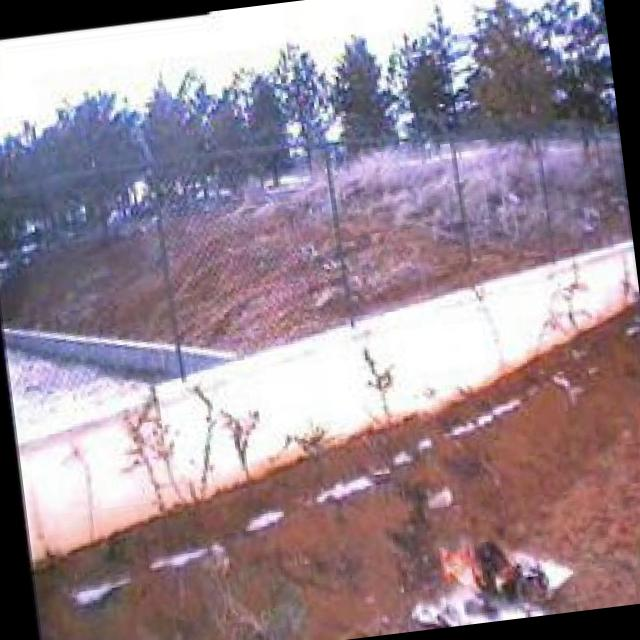Fire: (432, 523, 548, 617)
